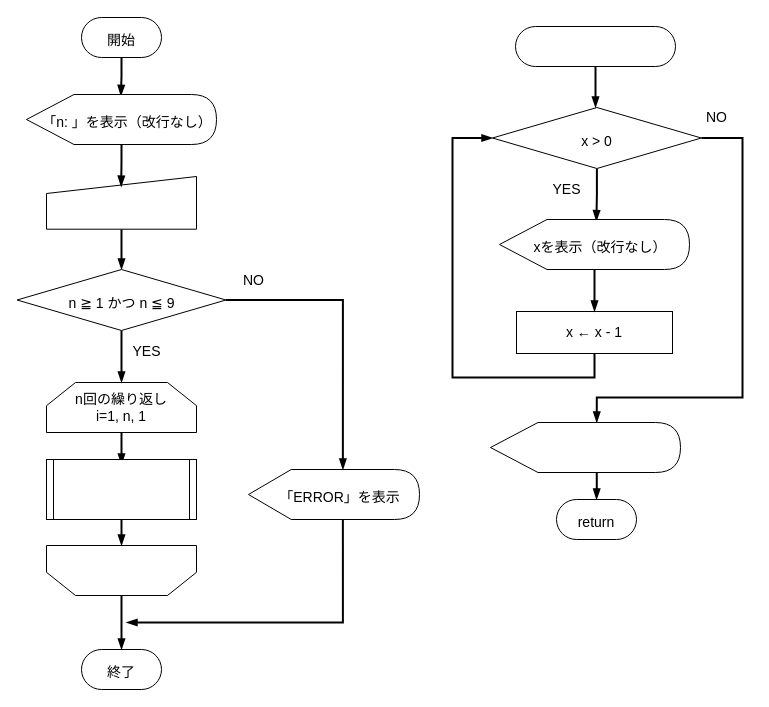
Image size: 769x707. Some labels were removed from this diagram. The centre of each missing label's shape, as x and y in pixels:
countdown( i ): (x=121, y=489)
countdown( x ): (x=595, y=46)
n 入力: (x=121, y=202)
n回の繰り返し: (x=121, y=570)
改行する: (x=585, y=447)
